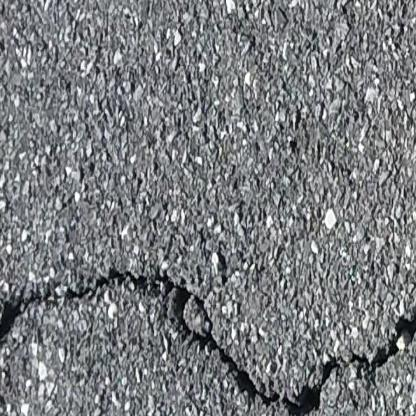Cracks: (0, 277, 416, 416)
